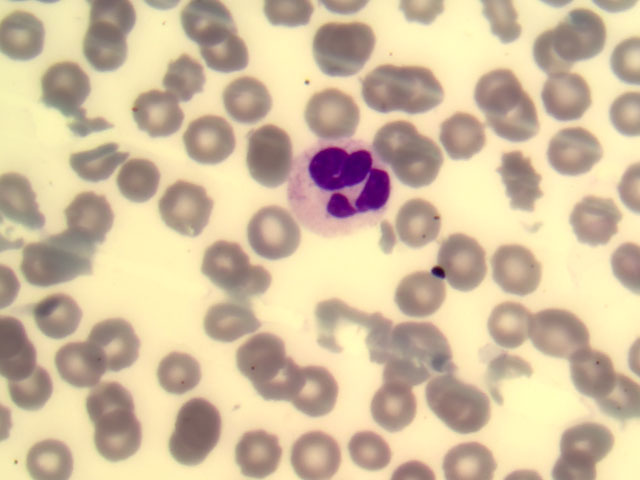RBC: (40, 62, 91, 112), (76, 28, 127, 78), (161, 49, 212, 99), (126, 89, 177, 139), (73, 136, 124, 186), (106, 153, 157, 203), (158, 176, 209, 226), (181, 121, 232, 171), (215, 75, 266, 125), (208, 34, 259, 84), (307, 88, 358, 138), (307, 24, 358, 74), (356, 62, 407, 112), (404, 64, 455, 114), (372, 118, 423, 168), (396, 138, 447, 188), (440, 112, 491, 162), (493, 92, 544, 142), (478, 69, 529, 119), (540, 74, 591, 124), (529, 26, 580, 76), (555, 13, 606, 63), (558, 127, 609, 177), (499, 149, 550, 199), (575, 193, 626, 243), (493, 247, 544, 297), (441, 236, 492, 286), (400, 267, 451, 317), (397, 203, 448, 253), (253, 211, 304, 261), (200, 235, 251, 285), (226, 260, 277, 310), (203, 296, 254, 346), (230, 324, 281, 374), (250, 361, 301, 411), (288, 368, 339, 418), (166, 393, 217, 443), (166, 428, 217, 478), (151, 352, 202, 402), (96, 413, 147, 463), (85, 380, 136, 430), (28, 429, 79, 479), (14, 371, 65, 421), (58, 338, 109, 388), (83, 312, 134, 362), (37, 293, 88, 343), (21, 241, 72, 291), (37, 226, 88, 276), (61, 185, 112, 235), (370, 382, 421, 432), (347, 427, 398, 477), (284, 428, 335, 478), (232, 429, 283, 479), (441, 430, 492, 480), (447, 385, 498, 435), (426, 370, 477, 420), (391, 322, 442, 372), (482, 303, 533, 353), (528, 303, 579, 353), (562, 341, 613, 391), (558, 427, 609, 477), (478, 2, 529, 52), (1, 12, 51, 62), (178, 1, 229, 50)
WBC: (291, 141, 393, 232)
